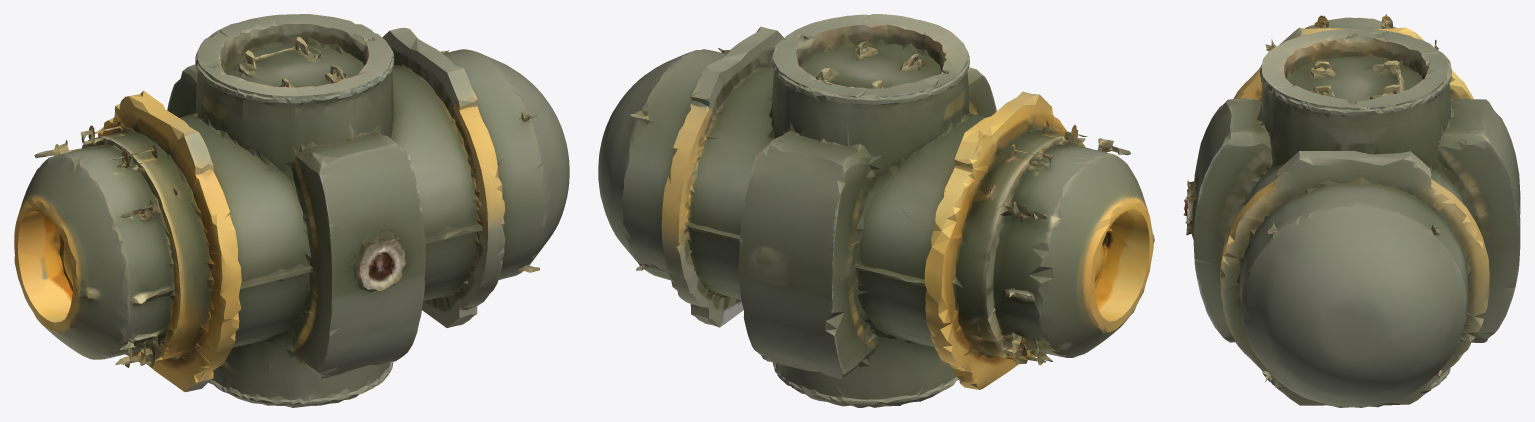
File: centurion_engine_aux.glb
3 renders of one model, left to right at view 1: azimuth 30°, elevation 25°; view 2: azimuth 150°, elevation 25°; view 3: azimuth 270°, elevation 25°, orthographic. The views are drawn at different scales.
Parts seen in each view (by area): view 1: centurion_engine_aux; view 2: centurion_engine_aux; view 3: centurion_engine_aux.
Boxes of the visible parts, bbox=[...] form: centurion_engine_aux: bbox=[14, 14, 569, 407]; centurion_engine_aux: bbox=[598, 14, 1154, 407]; centurion_engine_aux: bbox=[1183, 14, 1520, 407].
Bounding box in the file's own units: 1.89 × 1.14 × 1.13.
1 material, 1 textured.
